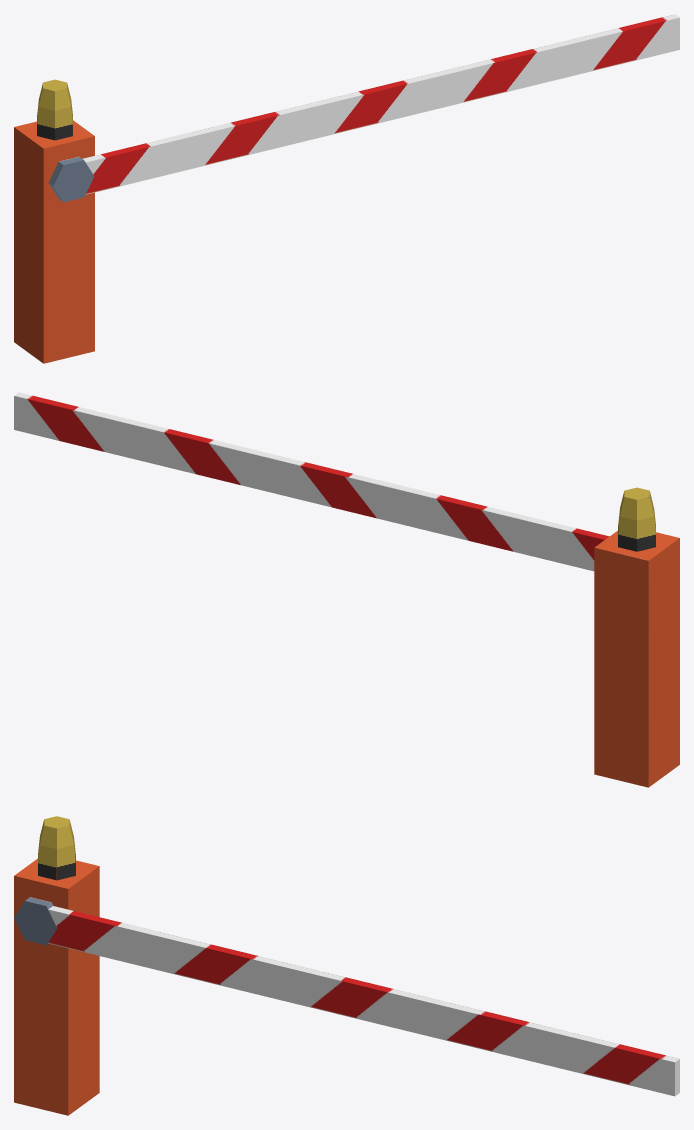
Rendered from Barrier.FBX.
3 renders of one model, top to bottom at view 1: azimuth 30°, elevation 25°; view 2: azimuth 150°, elevation 25°; view 3: azimuth 330°, elevation 25°, orthographic. The views are drawn at different scales.
Visible parts, largest first — view 1: Box002, Box001, Cylinder002, Cylinder001; view 2: Box002, Box001, Cylinder002; view 3: Box002, Box001, Cylinder002, Cylinder001.
Part boxes in pixels (<box>): Box002: <box>82,14,679,194</box>; Box001: <box>14,120,94,363</box>; Cylinder002: <box>37,79,72,140</box>; Cylinder001: <box>48,156,94,202</box>; Box002: <box>14,392,609,571</box>; Box001: <box>594,530,679,787</box>; Cylinder002: <box>618,487,655,551</box>; Box002: <box>48,906,679,1096</box>; Box001: <box>14,858,99,1115</box>; Cylinder002: <box>38,816,75,880</box>; Cylinder001: <box>14,897,57,945</box>.
Size of the model in its own units: 3.07 by 0.2914 by 1.22.
